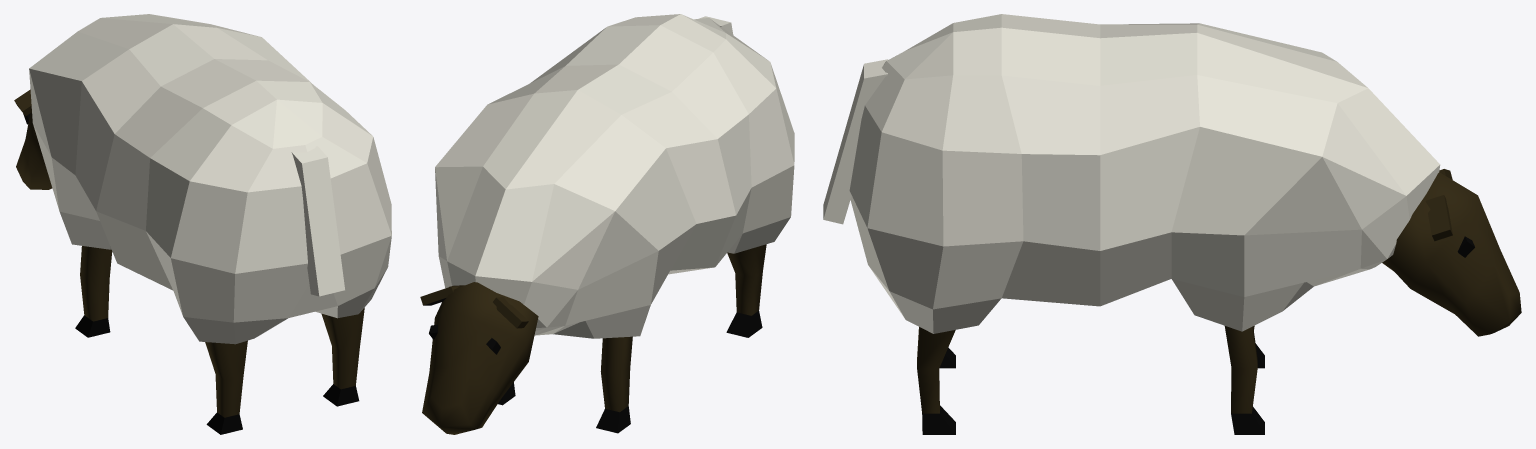
The model's file is sheep.glb.
3 views of the same model, side by side, from view 1: azimuth 30°, elevation 25°; view 2: azimuth 150°, elevation 25°; view 3: azimuth 270°, elevation 25° (orthographic). The views are drawn at different scales.
Size of the model in its own units: 0.722 by 0.9114 by 1.57.
Materials: 3 (3 with a texture image).
